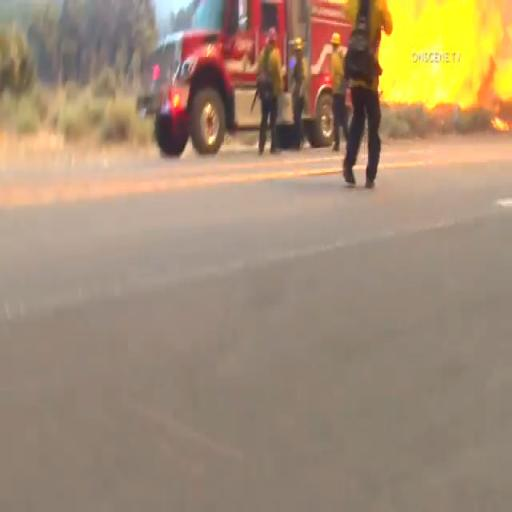fire: (395, 3, 507, 110)
